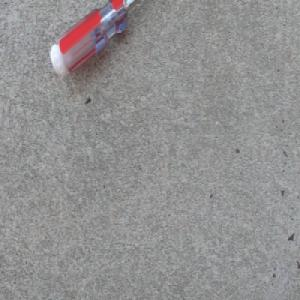Screwdriver: (50, 0, 147, 81)
